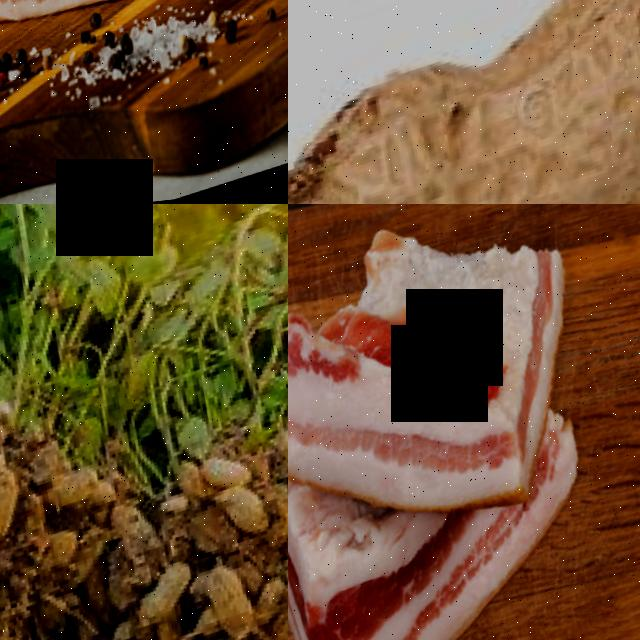peanuts: (288, 0, 640, 204), (133, 563, 207, 638), (204, 567, 265, 640), (221, 486, 275, 557), (203, 451, 257, 508), (0, 470, 33, 554)
pork belly: (288, 204, 608, 561), (288, 381, 628, 640)
